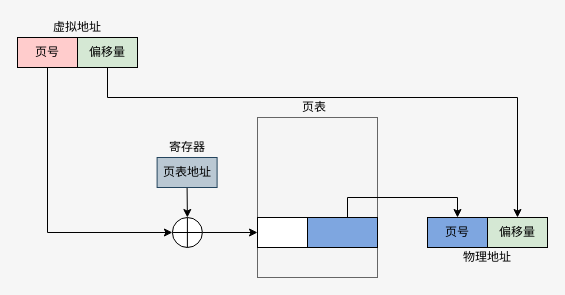
This 565x295 diagram has some shape labels left out. The centre of each missing label's shape, as x and y in pixels:
"控制位" belongs at point (282, 232).
"页框号" belongs at point (342, 232).
